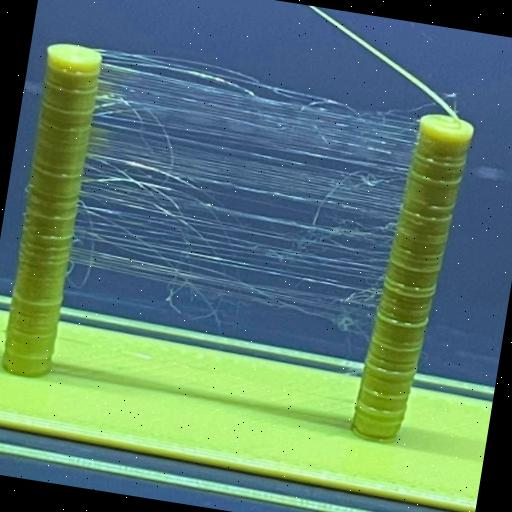stringing: (62, 50, 426, 336)
